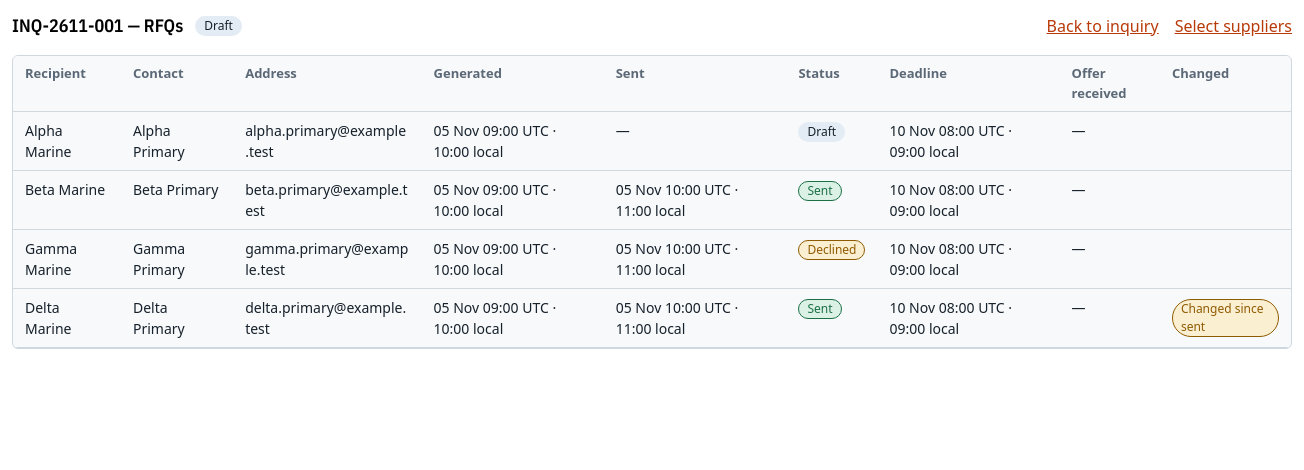
Test: RfqLog › [B3-R13] a buyer sees the right actions for Gamma Marine
Click the cell "Gamma Marine": (67, 259) [13,230,121,288]
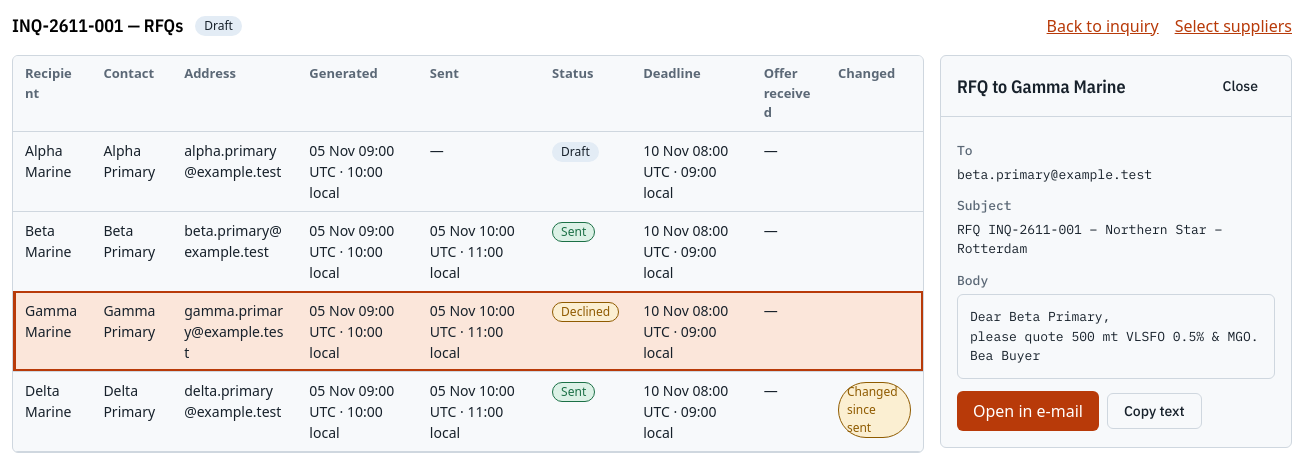
Now the link "Open in e-mail" is shown, box [957,390,1099,430]
